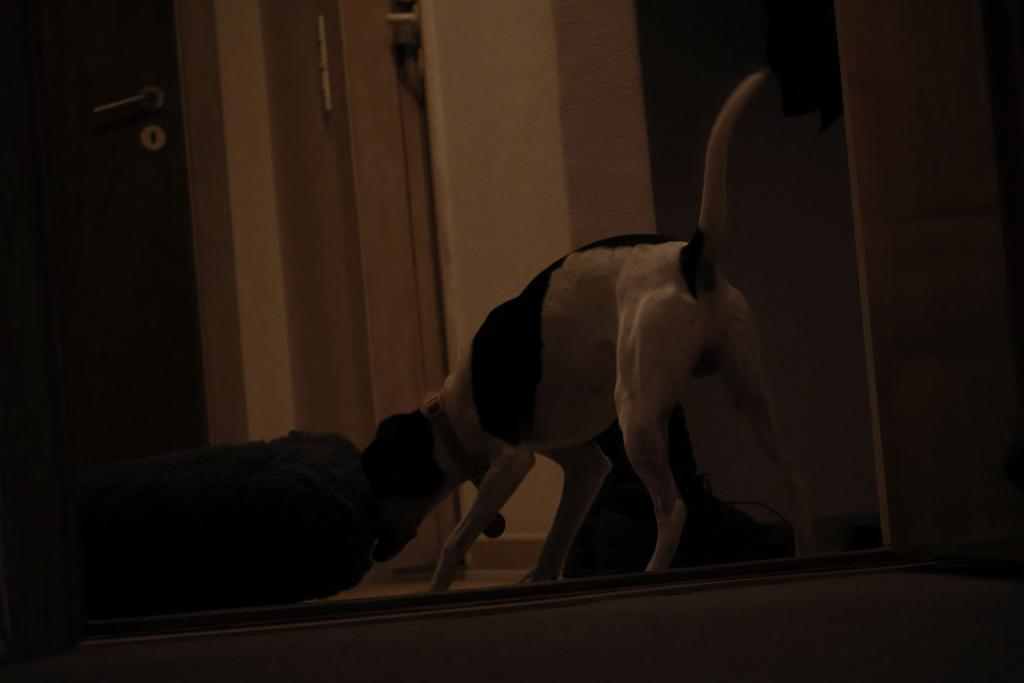Dog: (333, 57, 845, 593)
